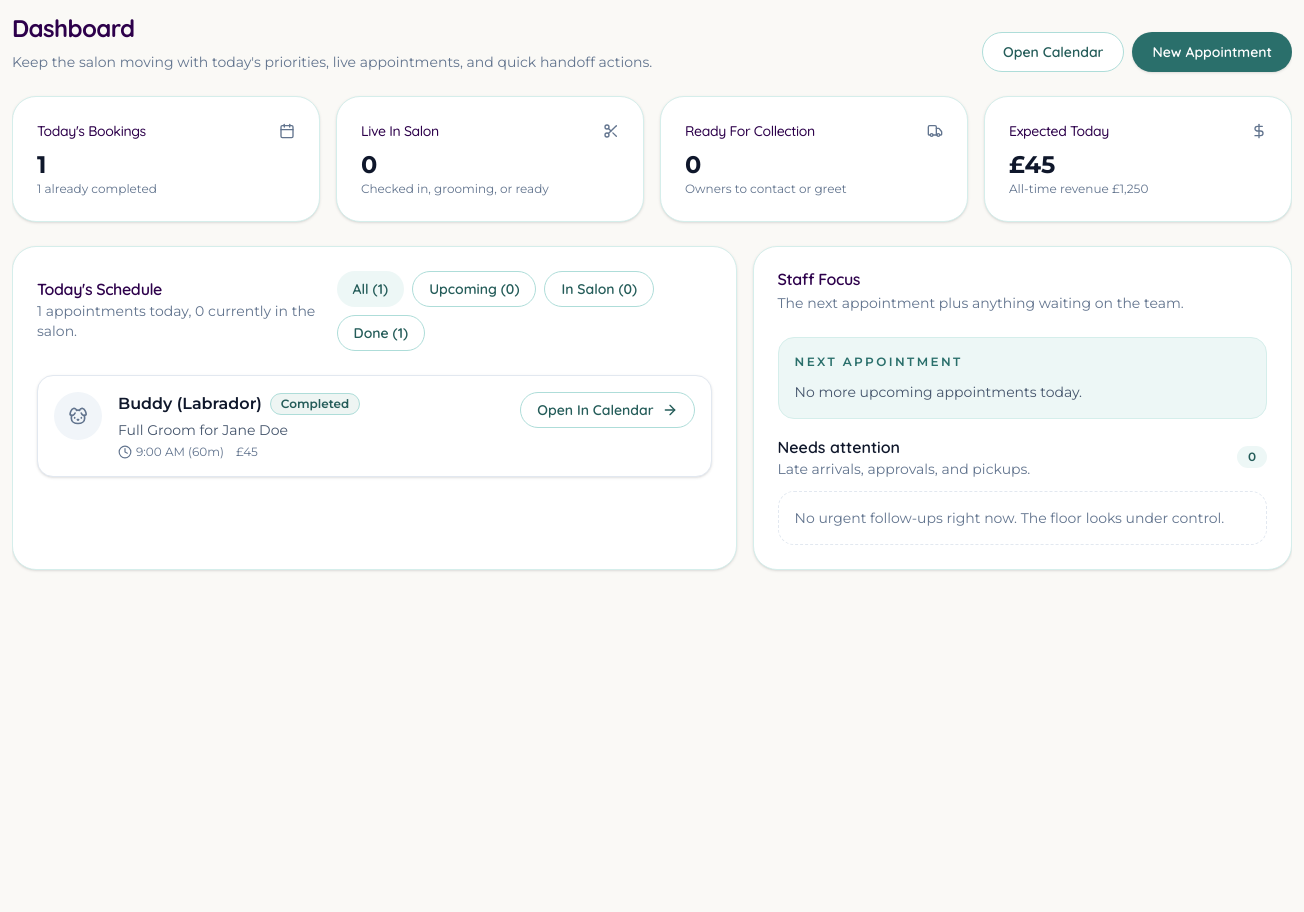
Test: Dashboard › shows empty state when no appointments match the filter
The width and height of the screenshot is (1304, 912).
Expected: the text "Buddy (Labrador)" is shown, [118,392,262,416]
Click "In Salon" filter — no appointments should match
Click the button "In Salon (0)" at (599, 289), box [544,271,654,307]
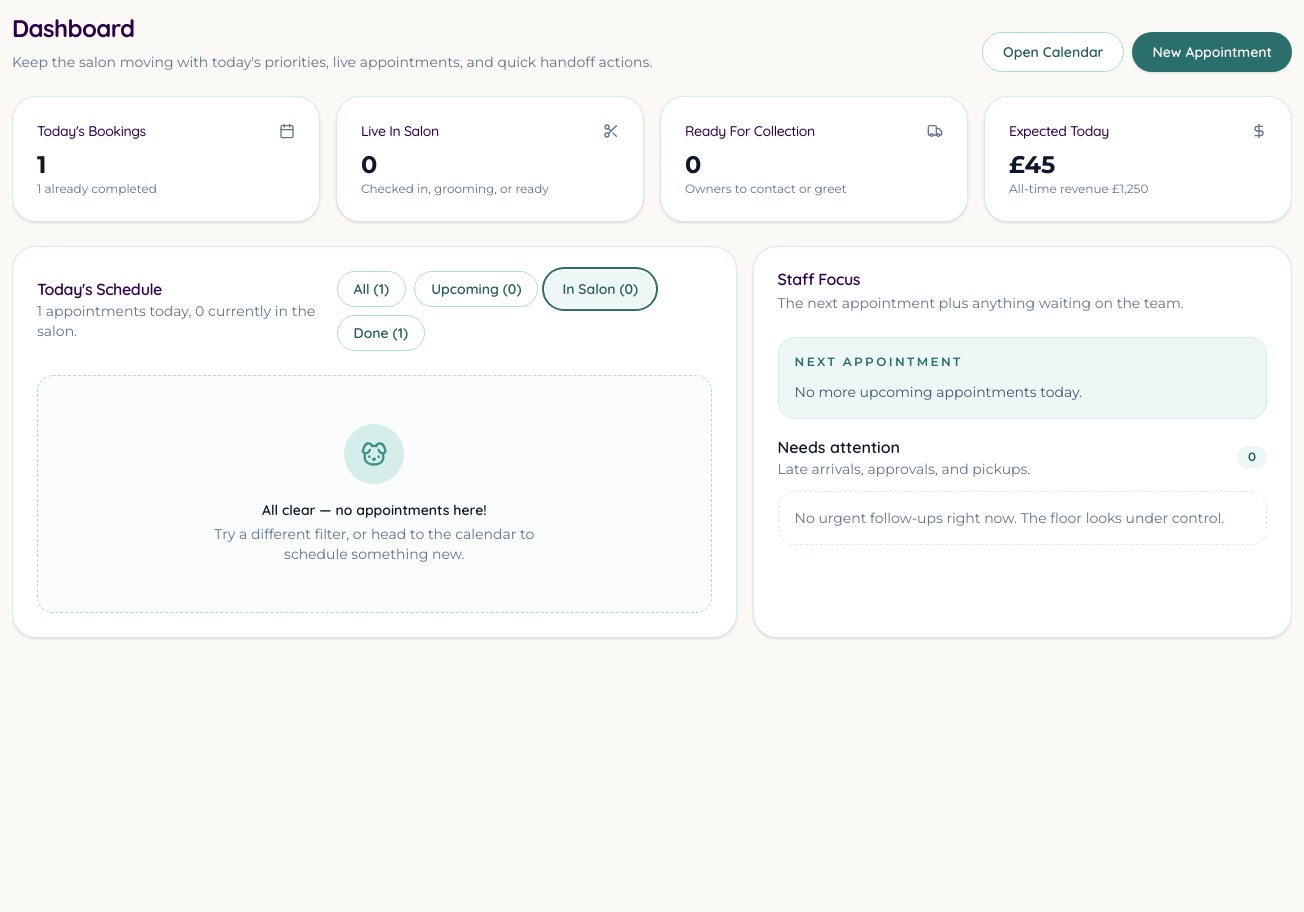
Expected: the heading "All clear — no appointments here!" is shown, [262,500,487,520]
